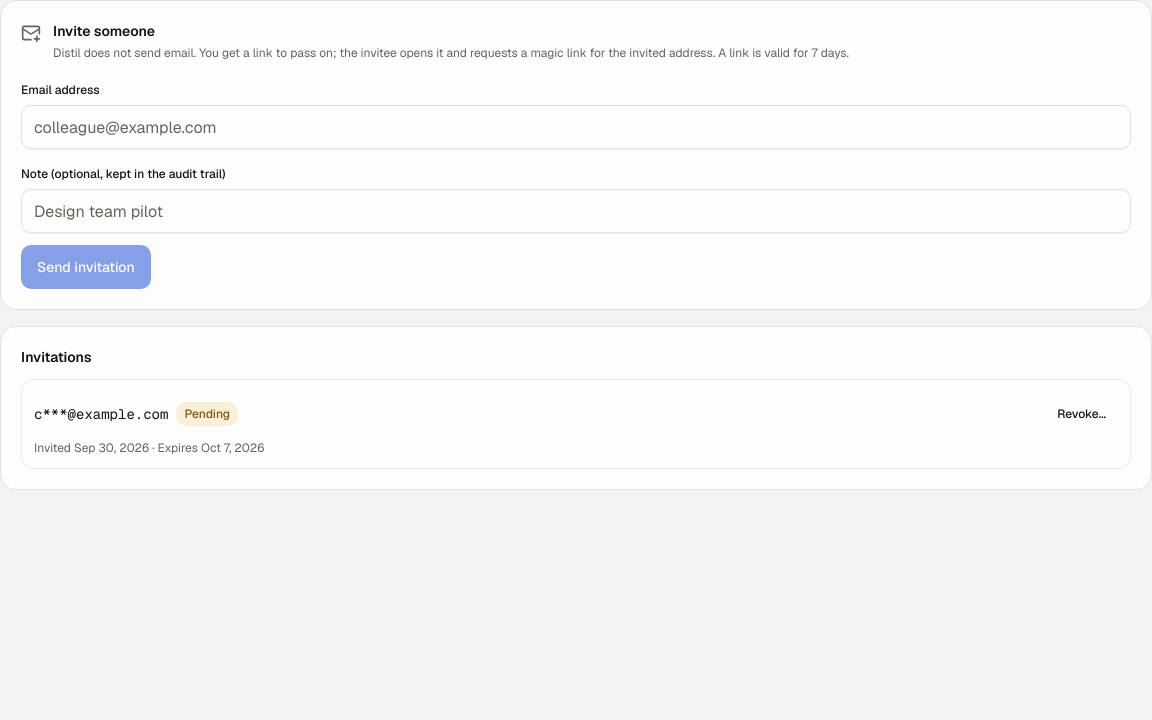
Test: InvitationsSettings › asks for a reason, revokes, and reloads the list
Click the button "Revoke…".
click(1082, 414)  # box [1045, 392, 1118, 436]
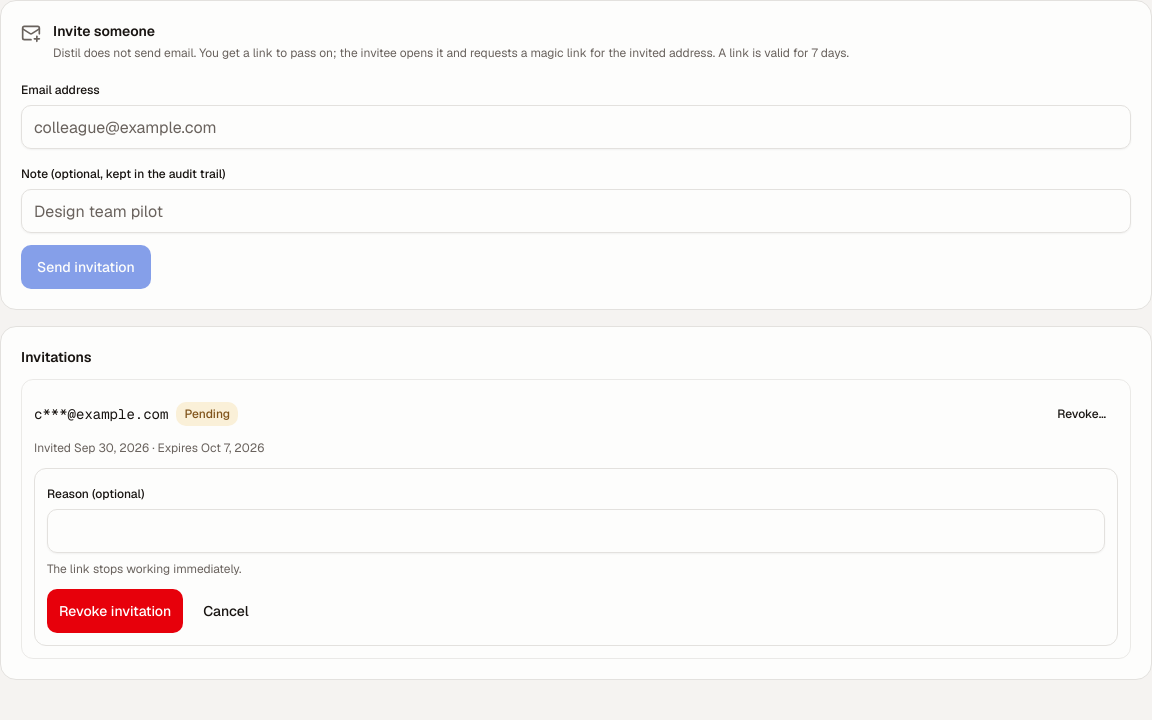
Result: the text "The link stops working immediately." is shown at [47, 561, 242, 577]
Type "wrong address" into the field labelled "Reason (optional)".
click(576, 531); type("wrong address")  # box [47, 509, 1105, 553]
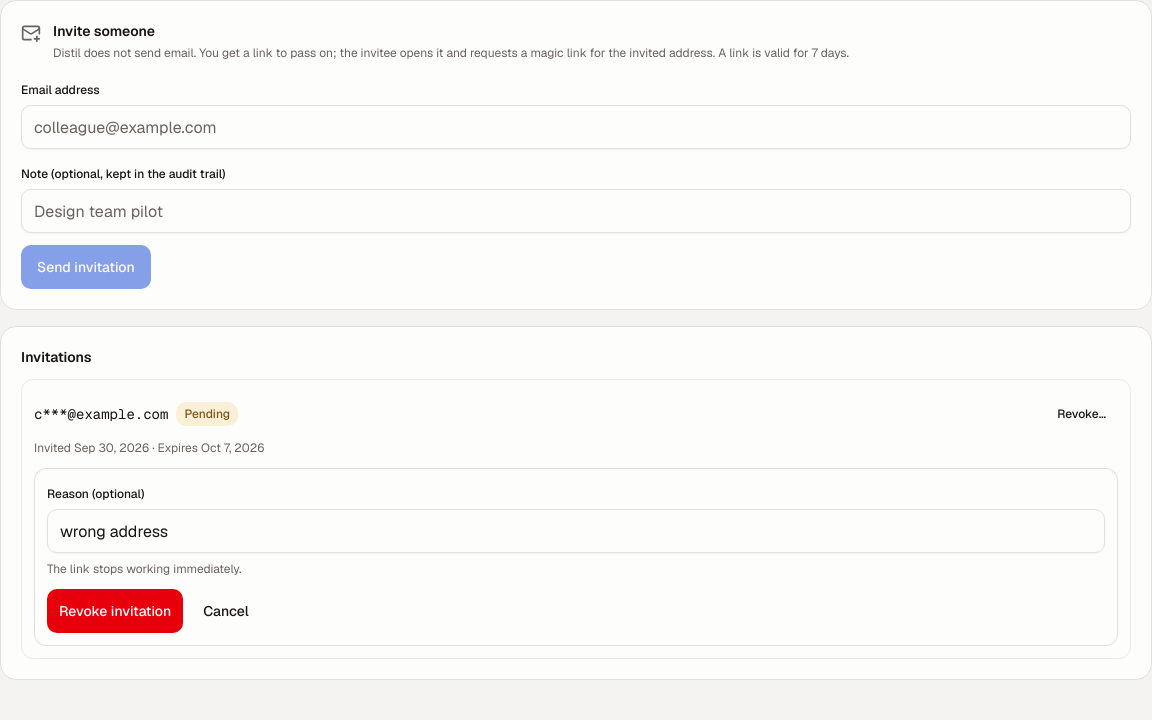
Click the button "Revoke invitation".
click(115, 611)  # box [47, 589, 183, 633]
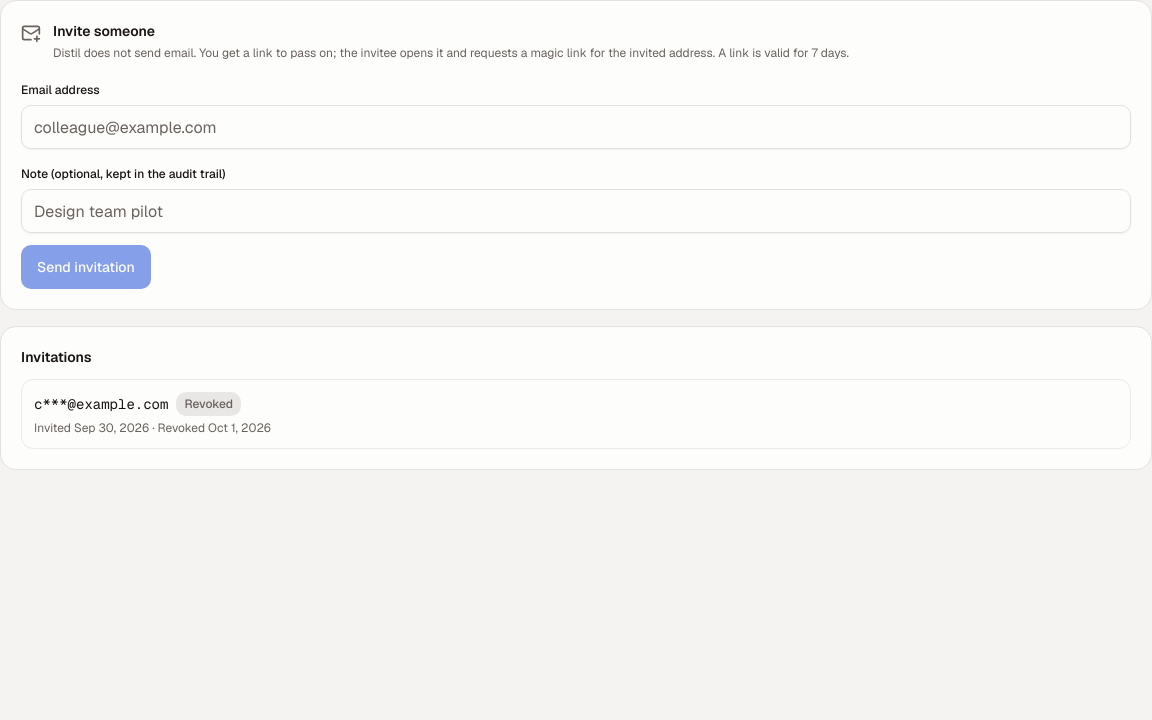
Result: the text "Revoked" is shown at [176, 392, 241, 416]
Result: the button "Revoke…" is gone
